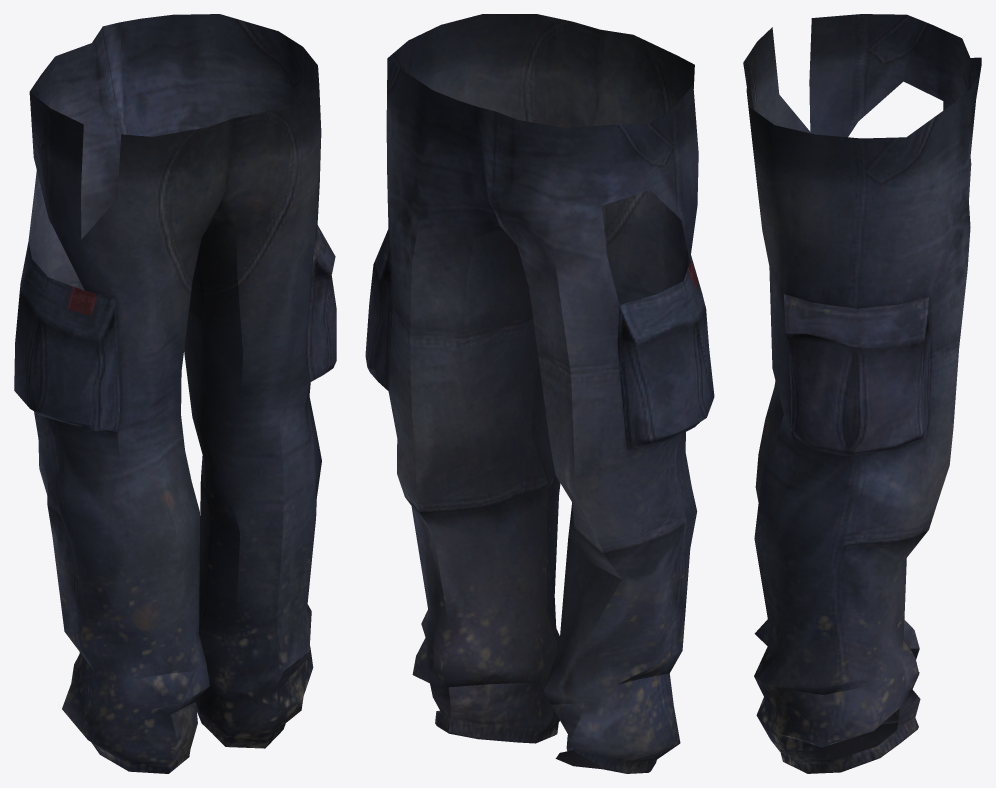
Rendered from pant.fbx.
The picture shows the model from 3 angles, left to right: view 1: azimuth 30°, elevation 25°; view 2: azimuth 150°, elevation 25°; view 3: azimuth 270°, elevation 25°; orthographic projection. The views are drawn at different scales.
Parts seen in each view (by area): view 1: Object_4; view 2: Object_4; view 3: Object_4.
Part boxes in pixels (x1,y1,x2,y2): Object_4: (14,14,336,773); Object_4: (365,14,714,773); Object_4: (743,14,981,773).
Bounding box in the file's own units: 41.2 × 86 × 27.57.
Materials: 1 (1 with a texture image).
